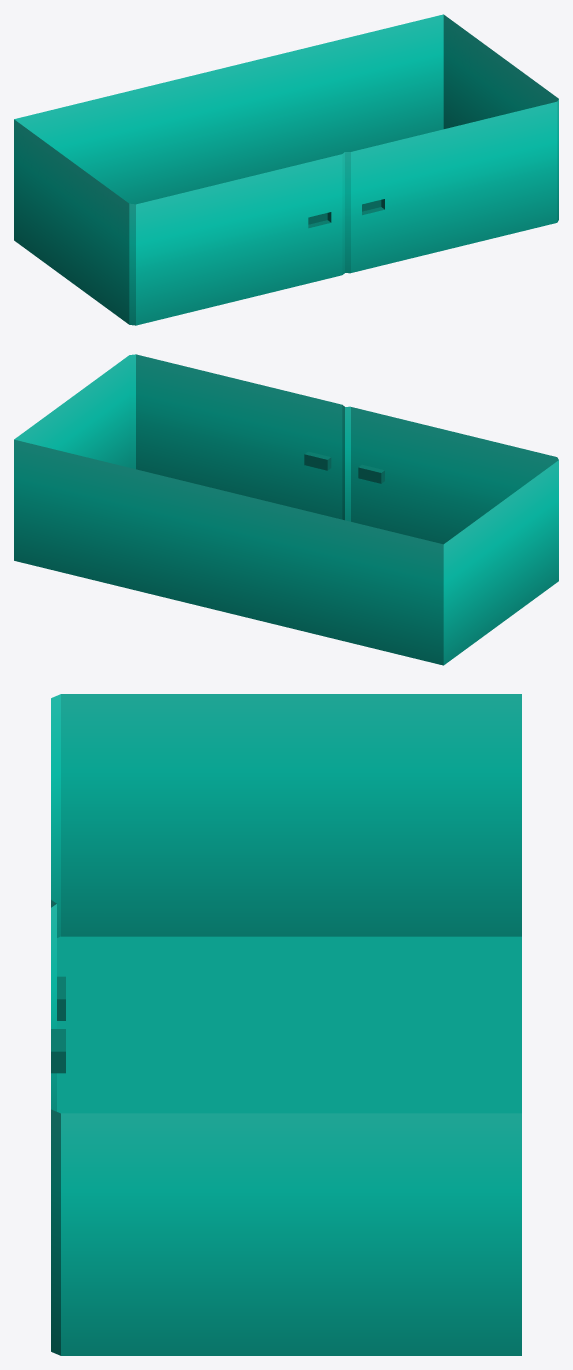
The model's file is Counter_01_v06_D_C05.fbx.
3 renders of one model, top to bottom at view 1: azimuth 30°, elevation 25°; view 2: azimuth 150°, elevation 25°; view 3: azimuth 270°, elevation 25°, orthographic. The views are drawn at different scales.
Visible parts, largest first — view 1: Counter_01_v06_D_C05; view 2: Counter_01_v06_D_C05; view 3: Counter_01_v06_D_C05.
Boxes of the visible parts, left/top/right/bottom form: Counter_01_v06_D_C05: left=14, top=14, right=558, bottom=325; Counter_01_v06_D_C05: left=14, top=354, right=558, bottom=665; Counter_01_v06_D_C05: left=51, top=694, right=521, bottom=1355.
Bounding box in the file's own units: 200 × 53.91 × 94.97.
